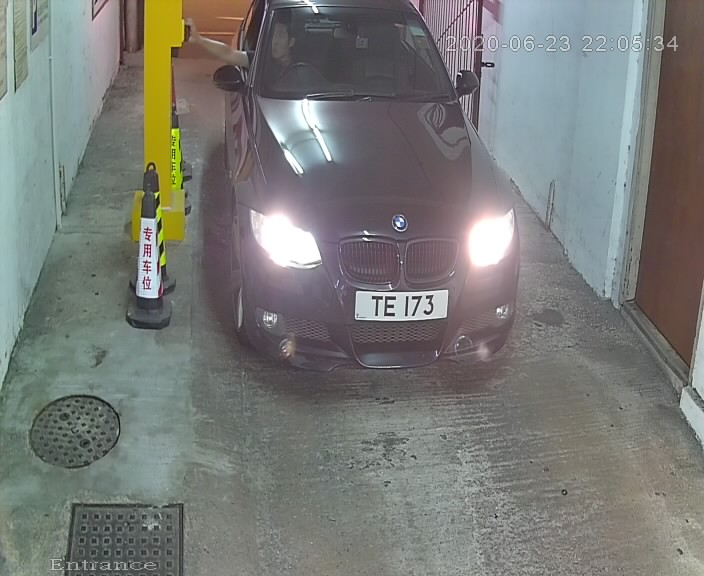privatecar: (197, 2, 525, 389)
